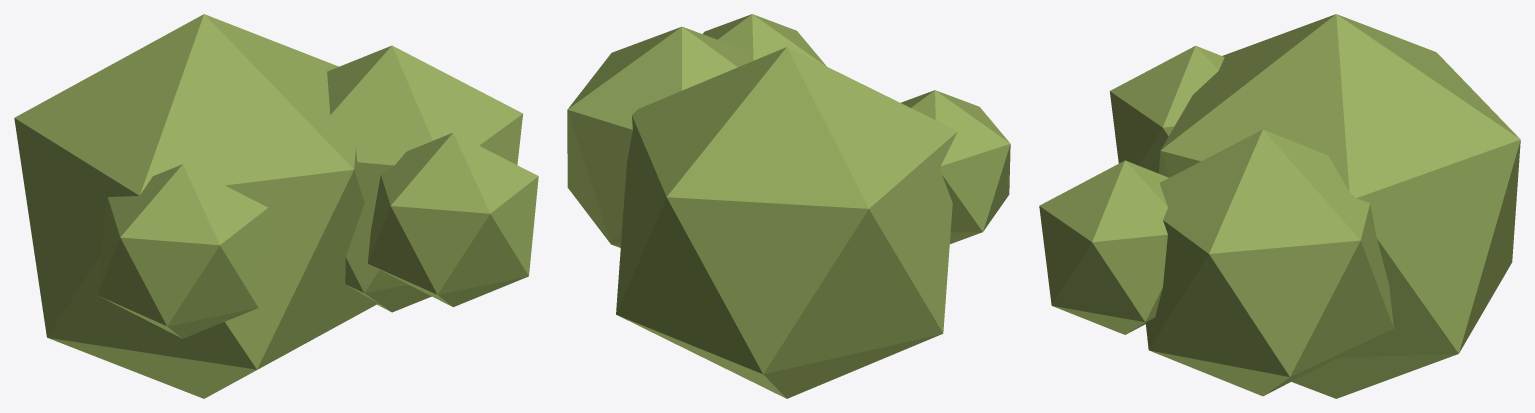
Rendered from bush_large_clump_2.glb.
3 views of the same model, side by side, from view 1: azimuth 30°, elevation 25°; view 2: azimuth 150°, elevation 25°; view 3: azimuth 270°, elevation 25° (orthographic). The views are drawn at different scales.
Parts seen in each view (by area): view 1: Object_77; view 2: Object_77; view 3: Object_77.
Boxes of the visible parts, box(x1,y1,x2,y2) form: Object_77: box(14, 14, 538, 398); Object_77: box(567, 14, 1010, 398); Object_77: box(1039, 14, 1520, 398).
Size of the model in its own units: 1.98 by 1.7 by 1.93.
